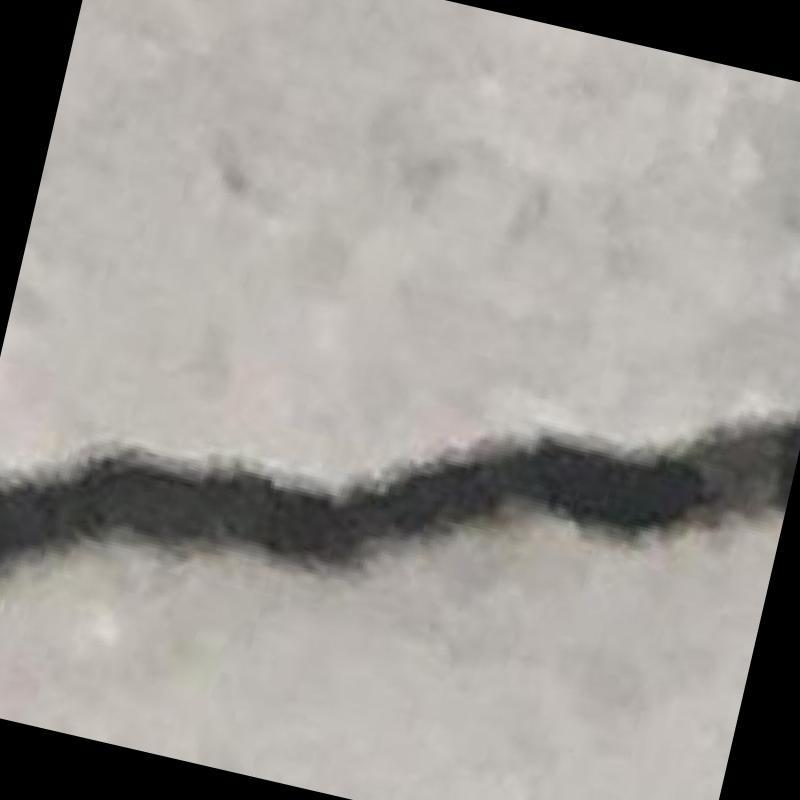crack: (0, 413, 800, 573)
